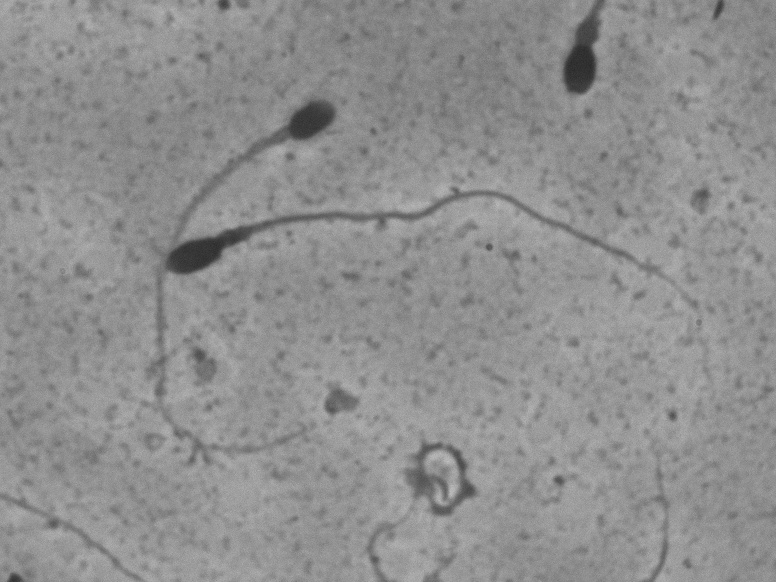Abnormal: (158, 181, 731, 396), (159, 55, 394, 188), (516, 10, 648, 106)
